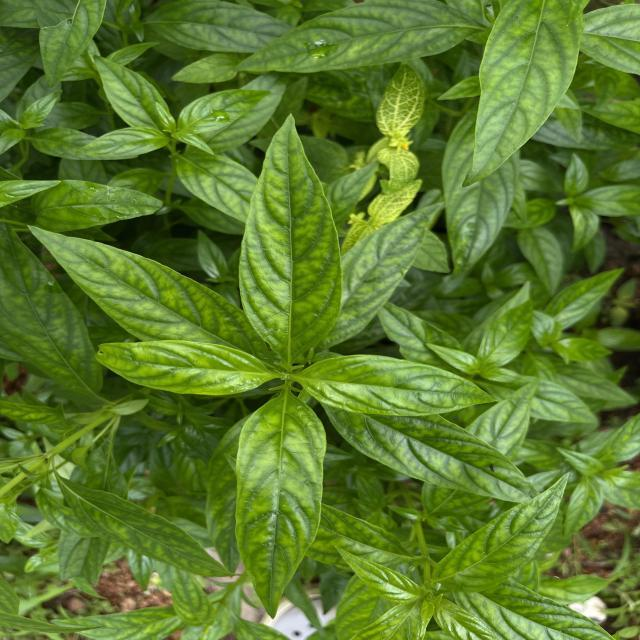Andrographis paniculata: (234, 109, 352, 361), (21, 222, 245, 348), (458, 0, 588, 185), (232, 392, 328, 620), (322, 404, 538, 504), (51, 470, 232, 580), (234, 0, 489, 75), (432, 472, 574, 594), (340, 200, 448, 344), (296, 352, 500, 418), (92, 337, 268, 398), (144, 0, 286, 49), (37, 177, 162, 231), (88, 52, 164, 128), (479, 294, 542, 368), (179, 87, 276, 130), (72, 125, 172, 159)
